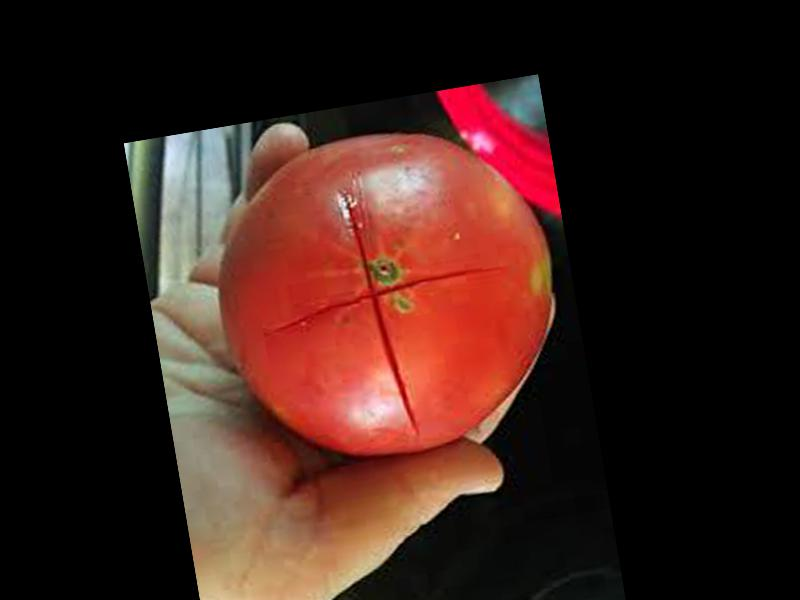Tomato: (194, 106, 576, 481)
